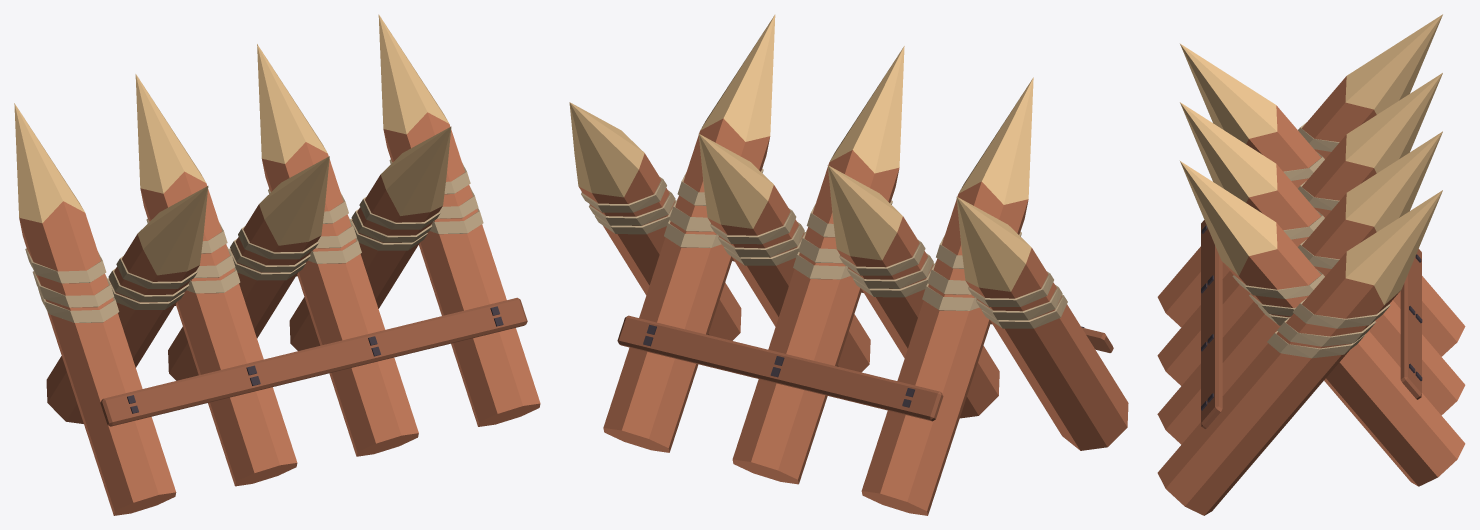
Rendered from Spikes_1.fbx.
3 renders of one model, left to right at view 1: azimuth 30°, elevation 25°; view 2: azimuth 150°, elevation 25°; view 3: azimuth 270°, elevation 25°, orthographic. The views are drawn at different scales.
Visible parts, largest first — view 1: Spikes_1; view 2: Spikes_1; view 3: Spikes_1.
Part boxes in pixels (x1,y1,x2,y2): Spikes_1: [14, 14, 540, 515]; Spikes_1: [569, 14, 1128, 515]; Spikes_1: [1157, 14, 1465, 515].
Bounding box in the file's own units: 1.24 × 0.8972 × 0.779.
